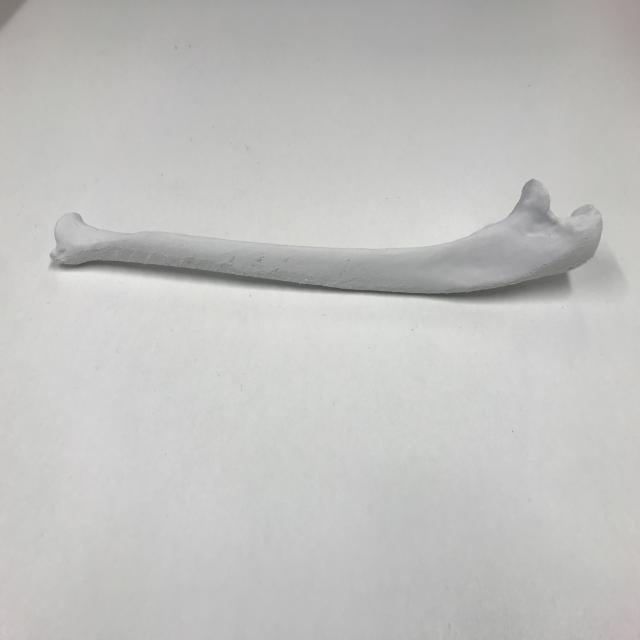bone: (44, 172, 608, 312)
